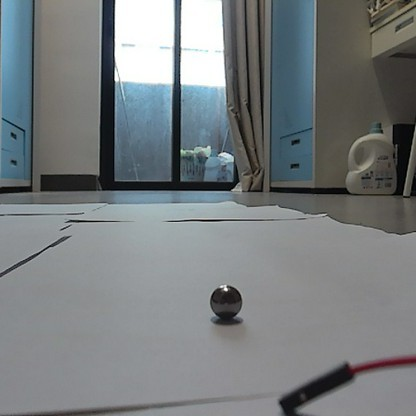ironball: (207, 283, 244, 321)
